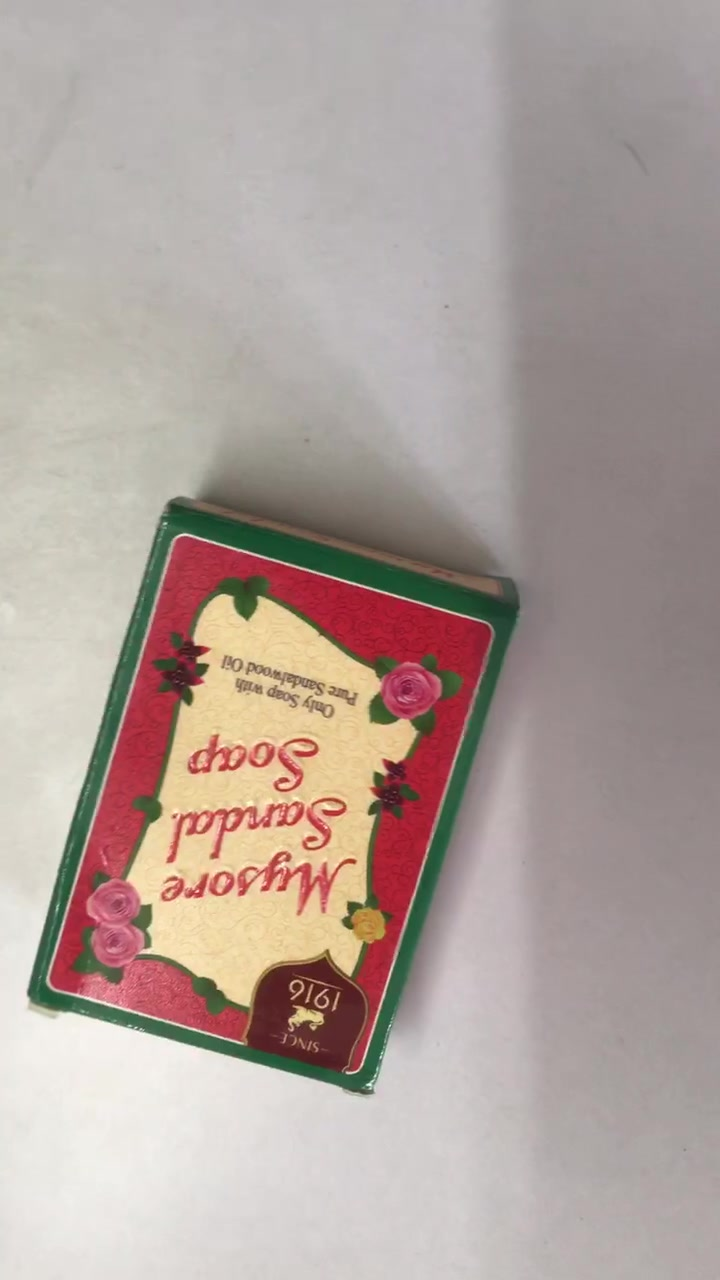mysore sandal soap: (19, 496, 523, 1100)
